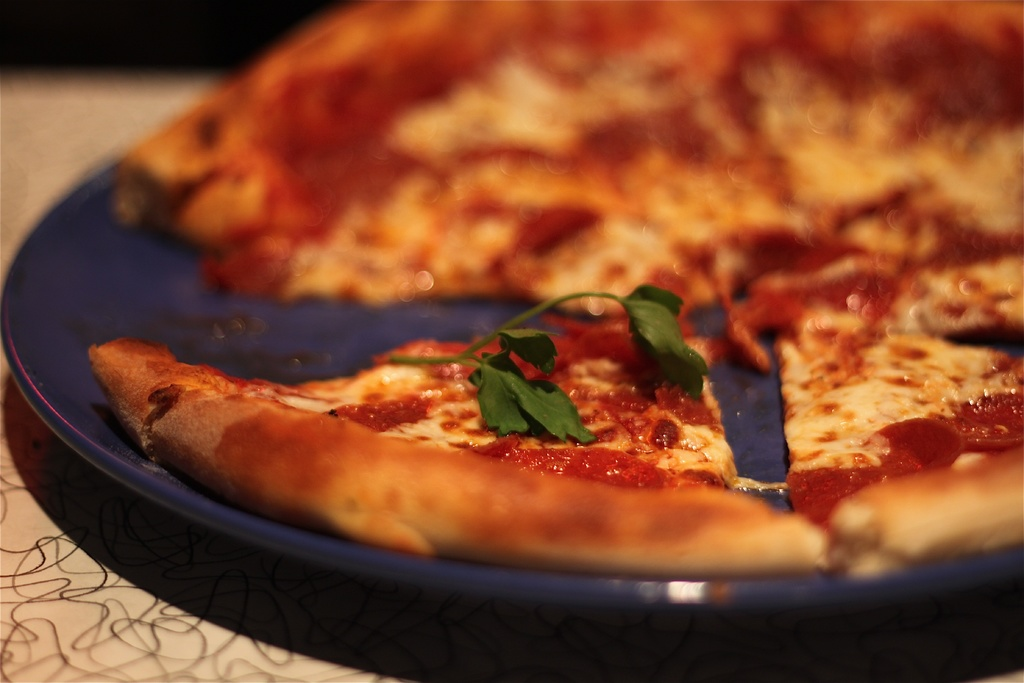Pizza: (85, 0, 1023, 577)
